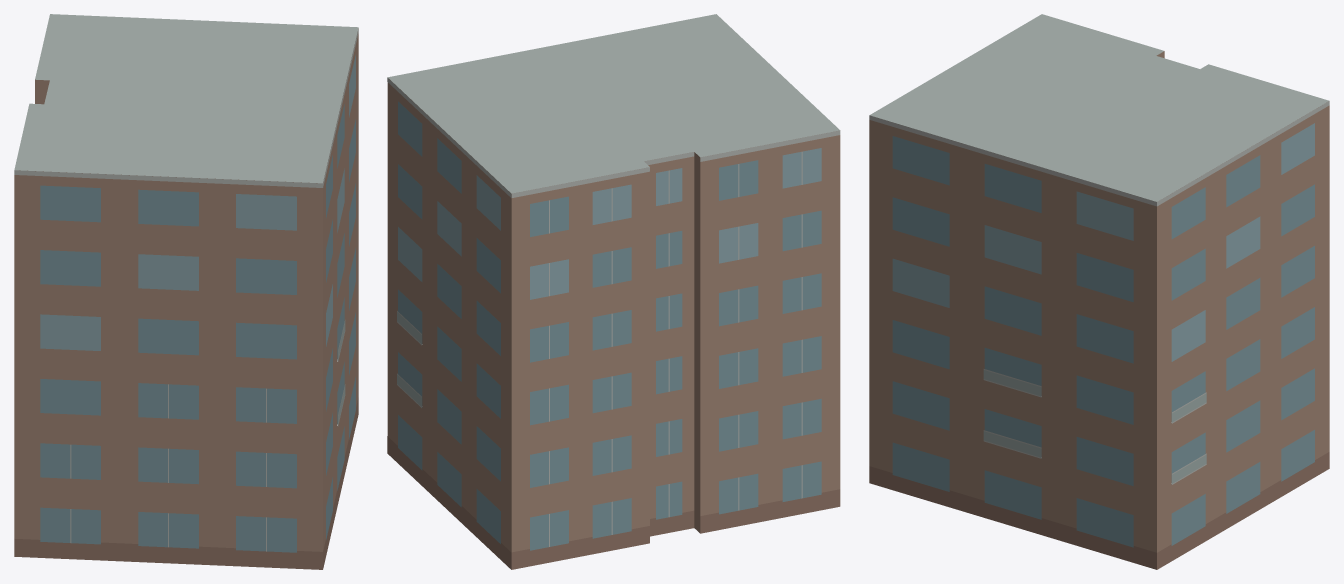
The model's file is survey-upis-32972717.glb.
3 views of the same model, side by side, from view 1: azimuth 30°, elevation 25°; view 2: azimuth 150°, elevation 25°; view 3: azimuth 270°, elevation 25° (orthographic). The views are drawn at different scales.
Parts seen in each view (by area): view 1: survey-upis-32972717.tmp; view 2: survey-upis-32972717.tmp; view 3: survey-upis-32972717.tmp.
Part boxes in pixels (x1,y1,x2,y2): survey-upis-32972717.tmp: [14, 14, 358, 569]; survey-upis-32972717.tmp: [387, 14, 840, 569]; survey-upis-32972717.tmp: [869, 14, 1329, 569].
Bounding box in the file's own units: 21.82 × 19.9 × 22.57.
